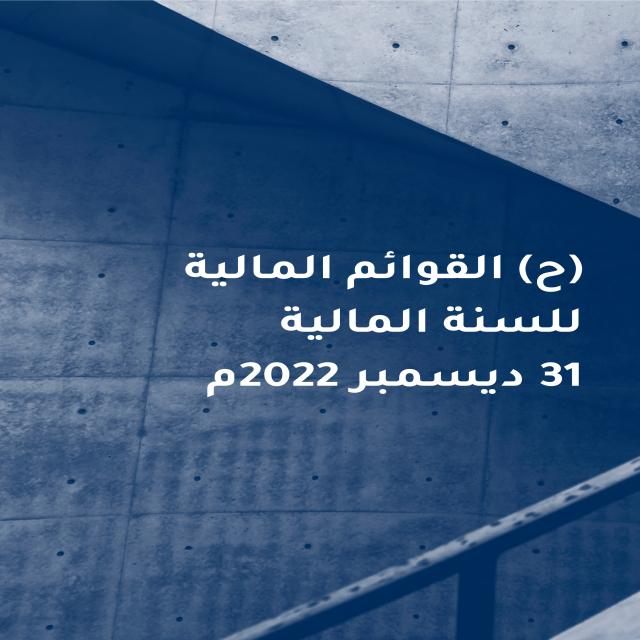other: (148, 225, 594, 420)
